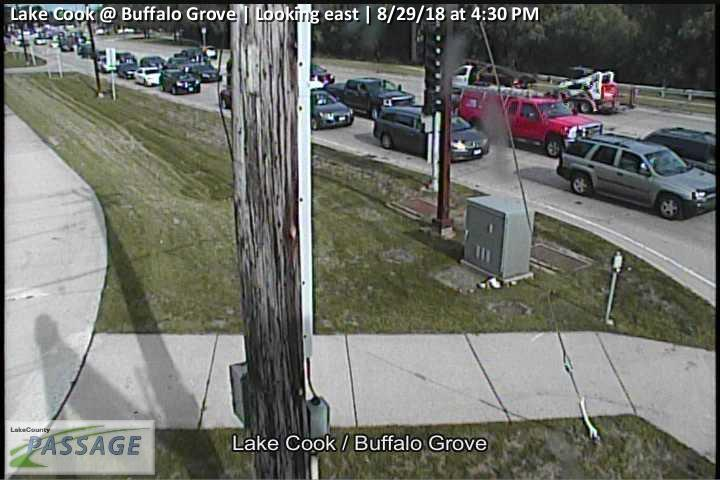SUV: (557, 132, 720, 221), (454, 83, 605, 158), (372, 105, 491, 161)
Sedan: (324, 73, 416, 118), (301, 85, 356, 131), (159, 68, 202, 95), (177, 62, 223, 82), (133, 65, 163, 86), (118, 61, 142, 79), (138, 55, 168, 68)
